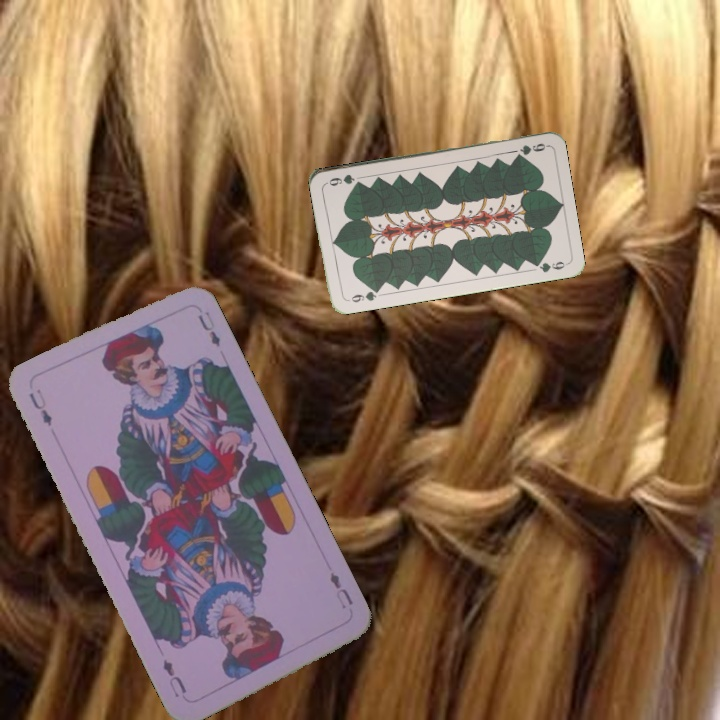EU: (25, 384, 55, 429), (326, 568, 356, 612)
G9: (512, 139, 550, 159), (347, 285, 382, 305)
